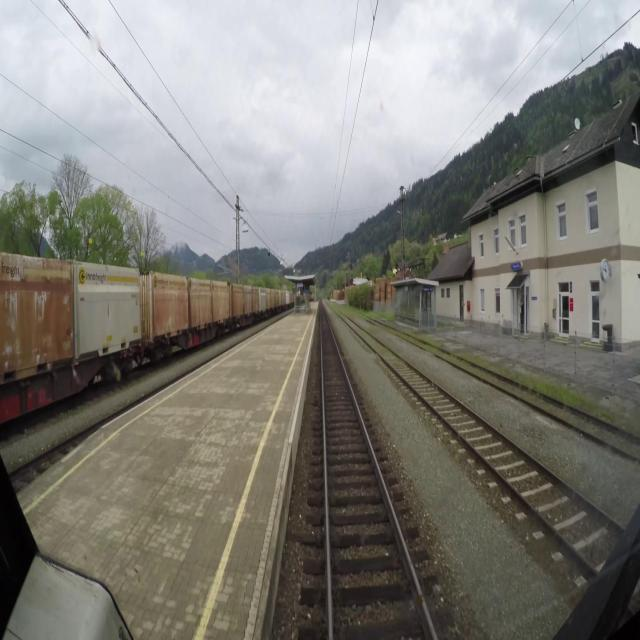rail-track: (340, 314, 618, 549), (321, 305, 433, 639), (411, 338, 640, 455)
